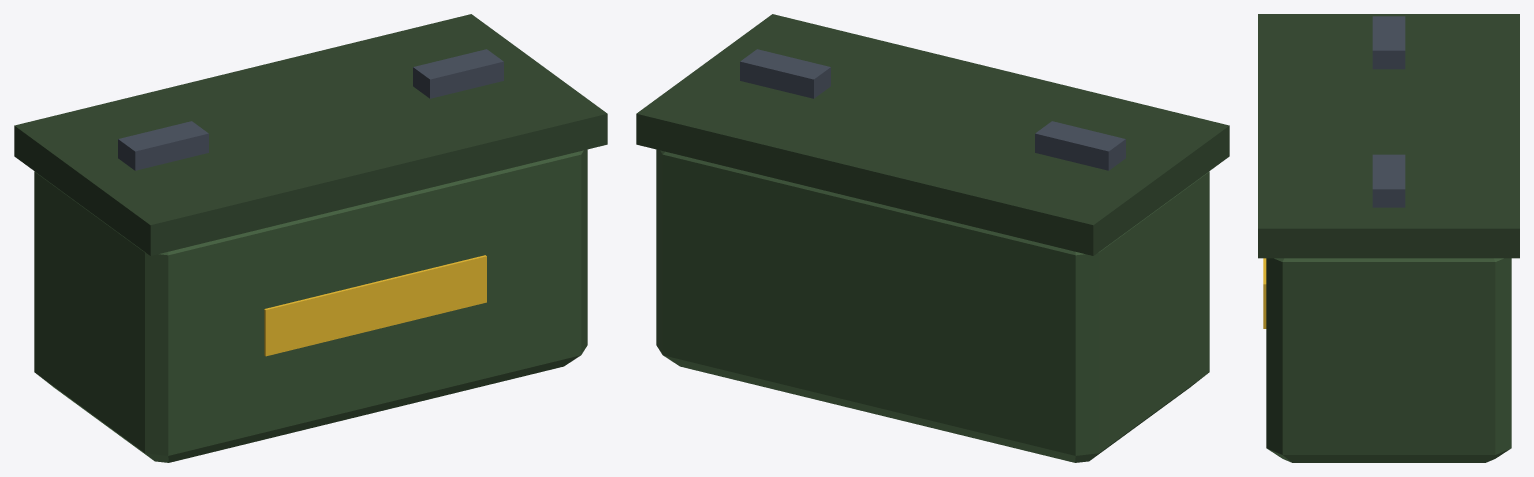
Rendered from ammo_box_military.glb.
3 views of the same model, side by side, from view 1: azimuth 30°, elevation 25°; view 2: azimuth 150°, elevation 25°; view 3: azimuth 270°, elevation 25° (orthographic). The views are drawn at different scales.
Visible parts, largest first — view 1: ammo_box_military; view 2: ammo_box_military; view 3: ammo_box_military.
Boxes of the visible parts, x1,y1,x2,y2 form: ammo_box_military: (14,14,607,462); ammo_box_military: (636,14,1229,462); ammo_box_military: (1258,14,1519,462).
Size of the model in its own units: 0.62 by 0.355 by 0.32.
